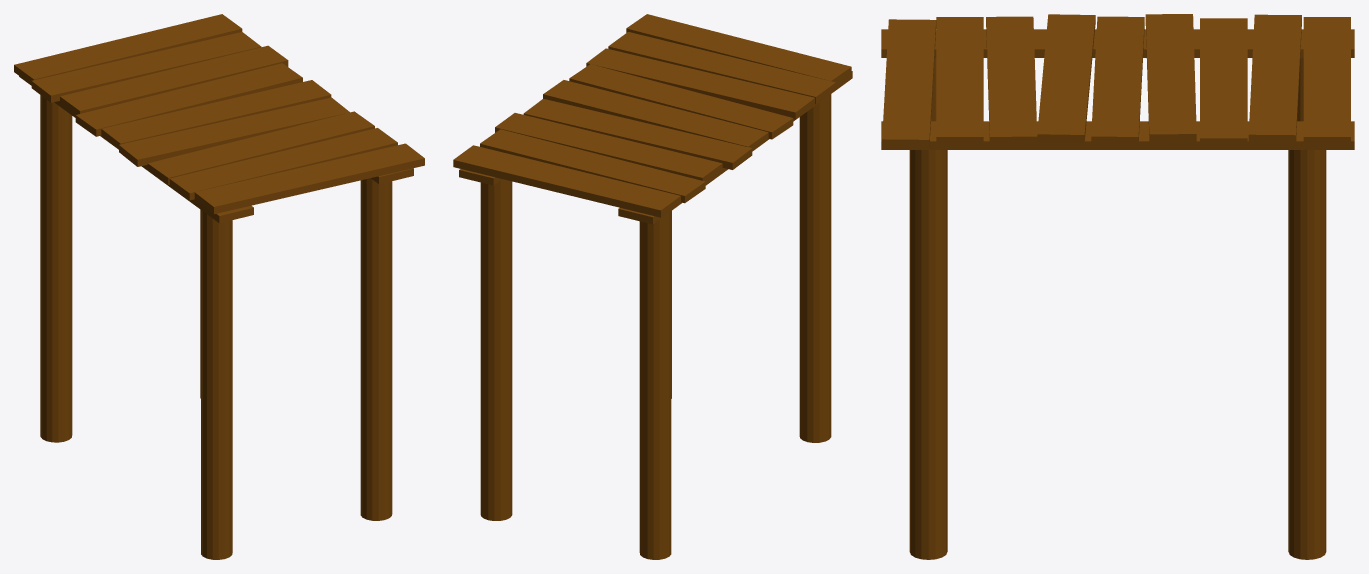
Rendered from houten brug 1.fbx.
3 renders of one model, left to right at view 1: azimuth 30°, elevation 25°; view 2: azimuth 150°, elevation 25°; view 3: azimuth 270°, elevation 25°, orthographic. The views are drawn at different scales.
Visible parts, largest first — view 1: Cube; view 2: Cube; view 3: Cube.
Boxes of the visible parts, box(x1,y1,x2,y2) form: Cube: box(14, 14, 424, 559); Cube: box(453, 14, 852, 559); Cube: box(881, 14, 1354, 559).
Bounding box in the file's own units: 3.15 × 5 × 5.
